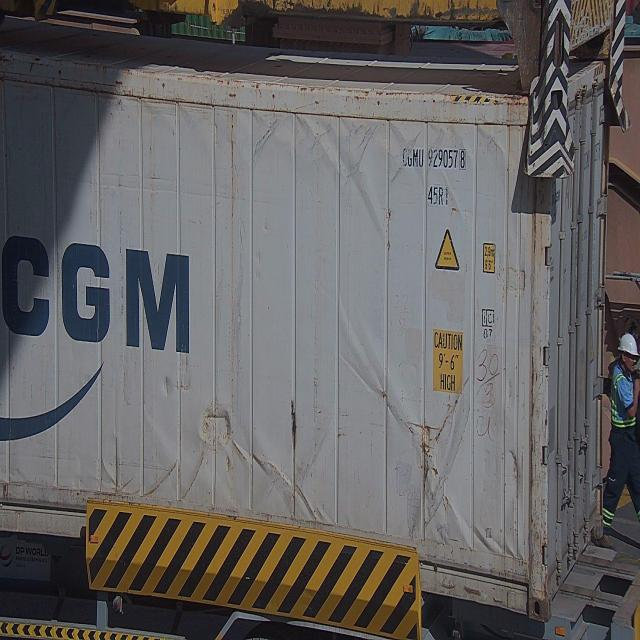dent: (347, 308, 518, 551), (108, 389, 331, 526)
